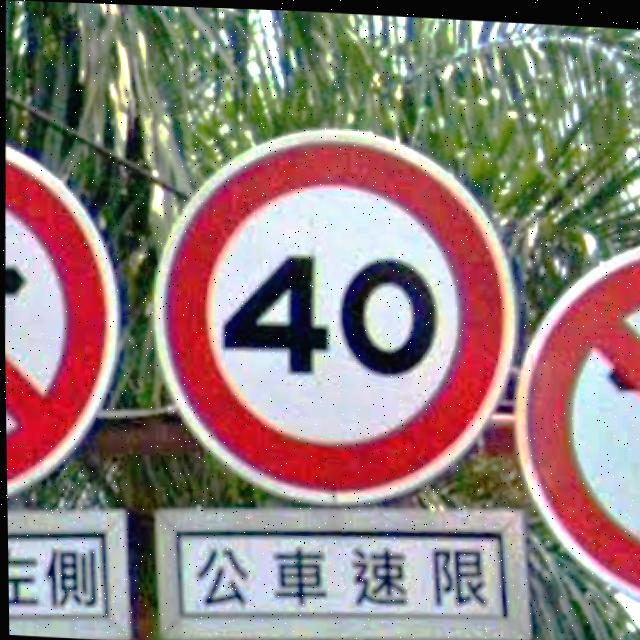max40: (142, 113, 522, 512)
